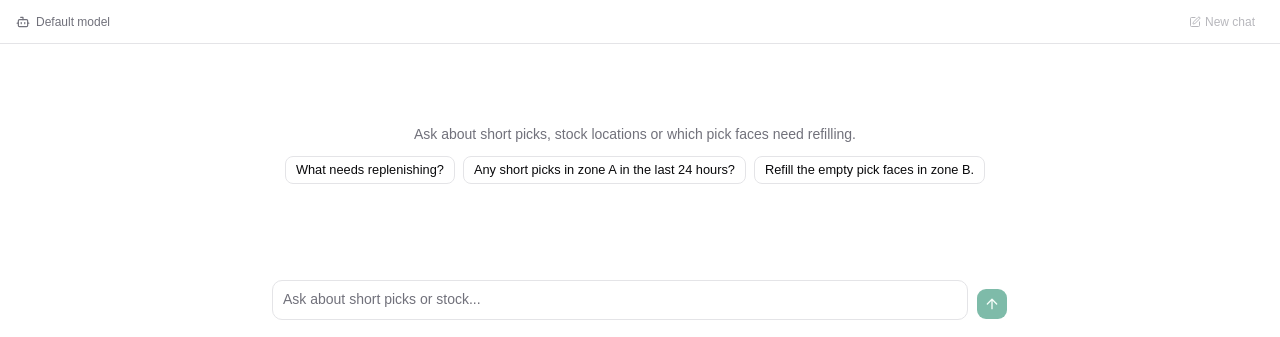
Test: Chat › marks who said what with an avatar
The width and height of the screenshot is (1280, 337).
Type "hi" into the text box named "Message". click: (620, 300)
box: [272,280,968,320]
Then press Enter
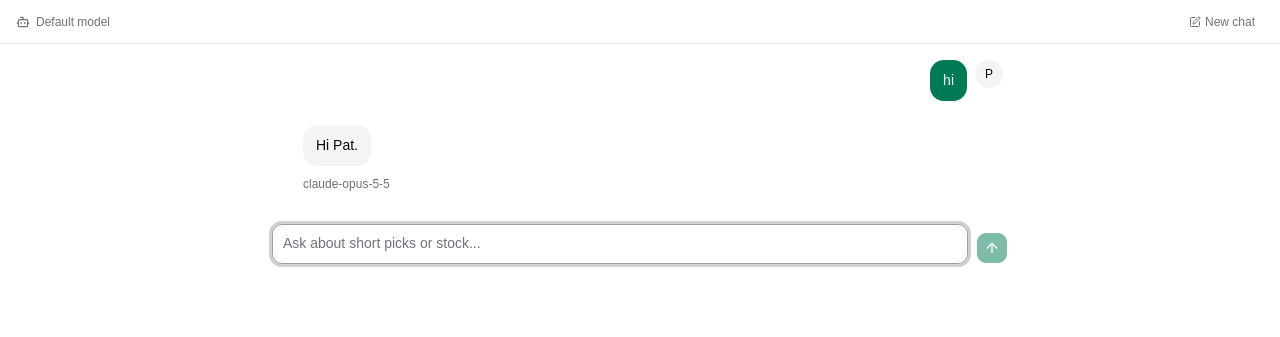
Expected: the text "P" is shown, [985,66,993,82]
Now the text "Hi Pat." is shown, box [316,134,358,157]
